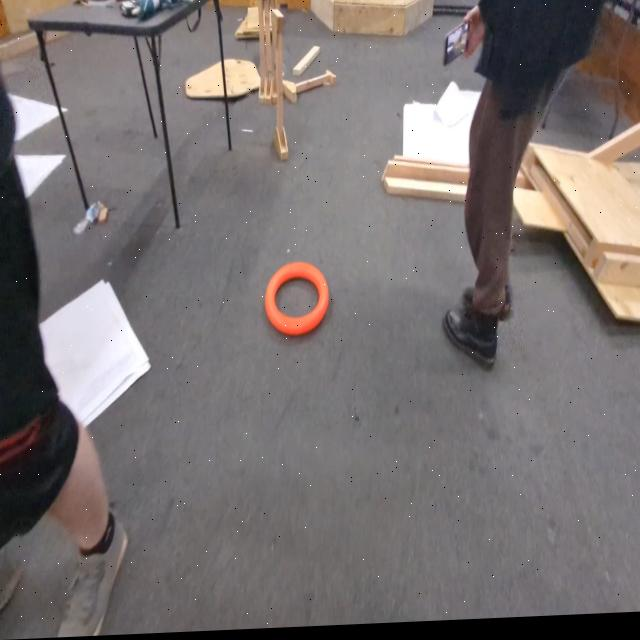note: (265, 264, 329, 338)
